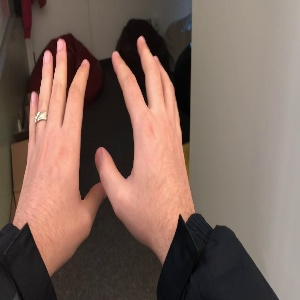hand: (13, 39, 111, 247), (97, 36, 194, 238)
